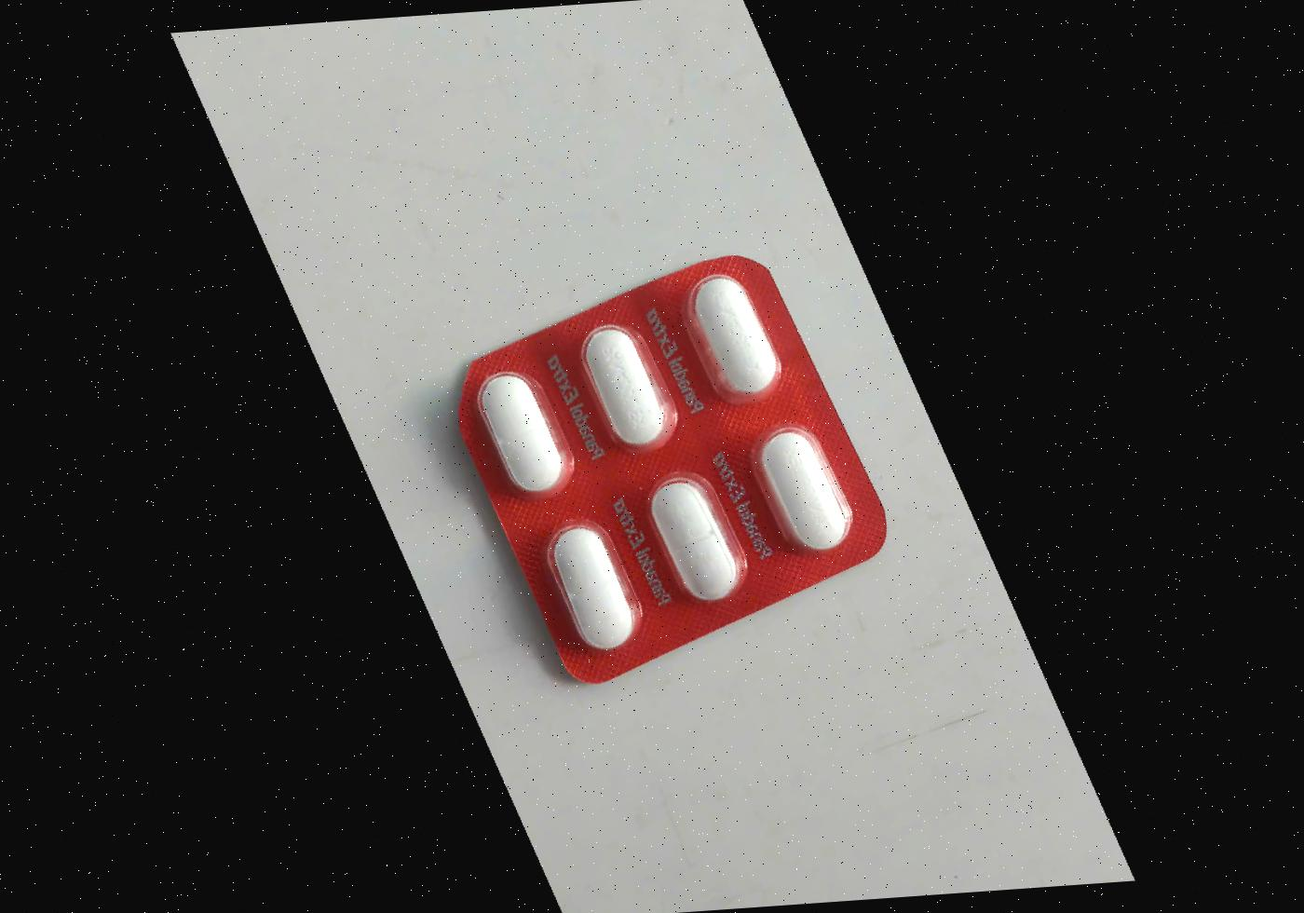Full: (458, 349, 588, 520), (532, 512, 650, 664), (637, 465, 750, 619), (568, 312, 681, 465), (678, 259, 791, 412), (745, 414, 858, 567)
